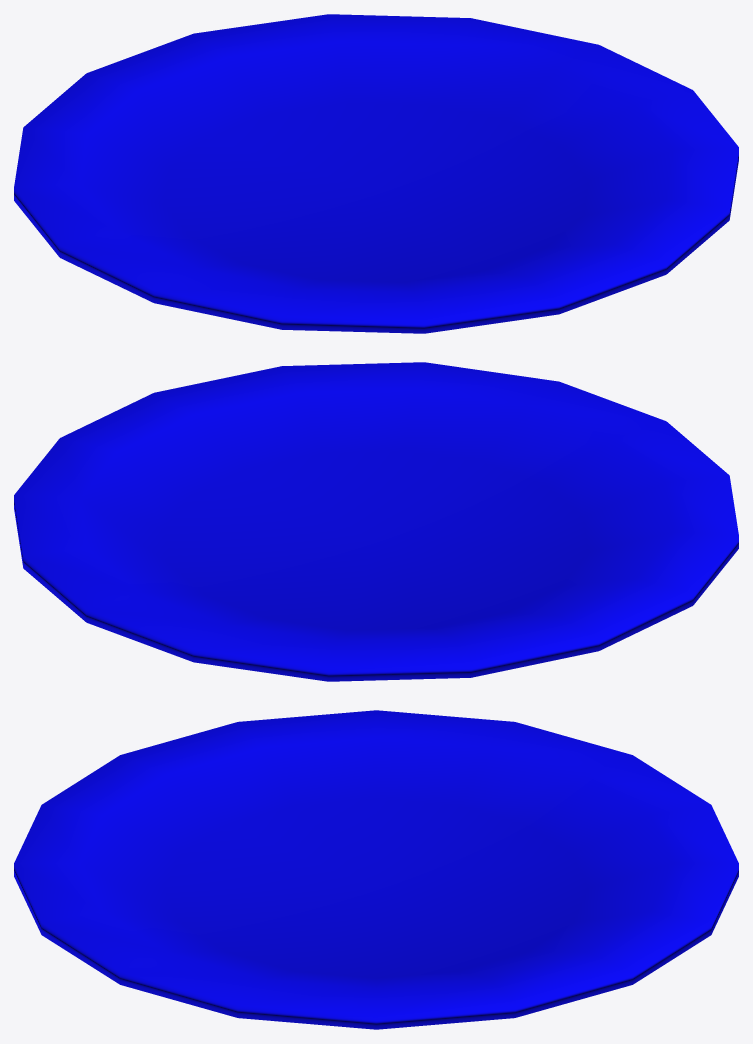
Rendered from DinnerPlate.glb.
The picture shows the model from 3 angles, top to bottom: view 1: azimuth 30°, elevation 25°; view 2: azimuth 150°, elevation 25°; view 3: azimuth 270°, elevation 25°; orthographic projection.
Visible parts, largest first — view 1: DinnerPlate; view 2: DinnerPlate; view 3: DinnerPlate.
Boxes of the visible parts, x1,y1,x2,y2 form: DinnerPlate: (14, 14, 738, 333); DinnerPlate: (14, 362, 738, 681); DinnerPlate: (14, 710, 738, 1029).
Size of the model in its own units: 4.78 by 0.2783 by 4.78.
